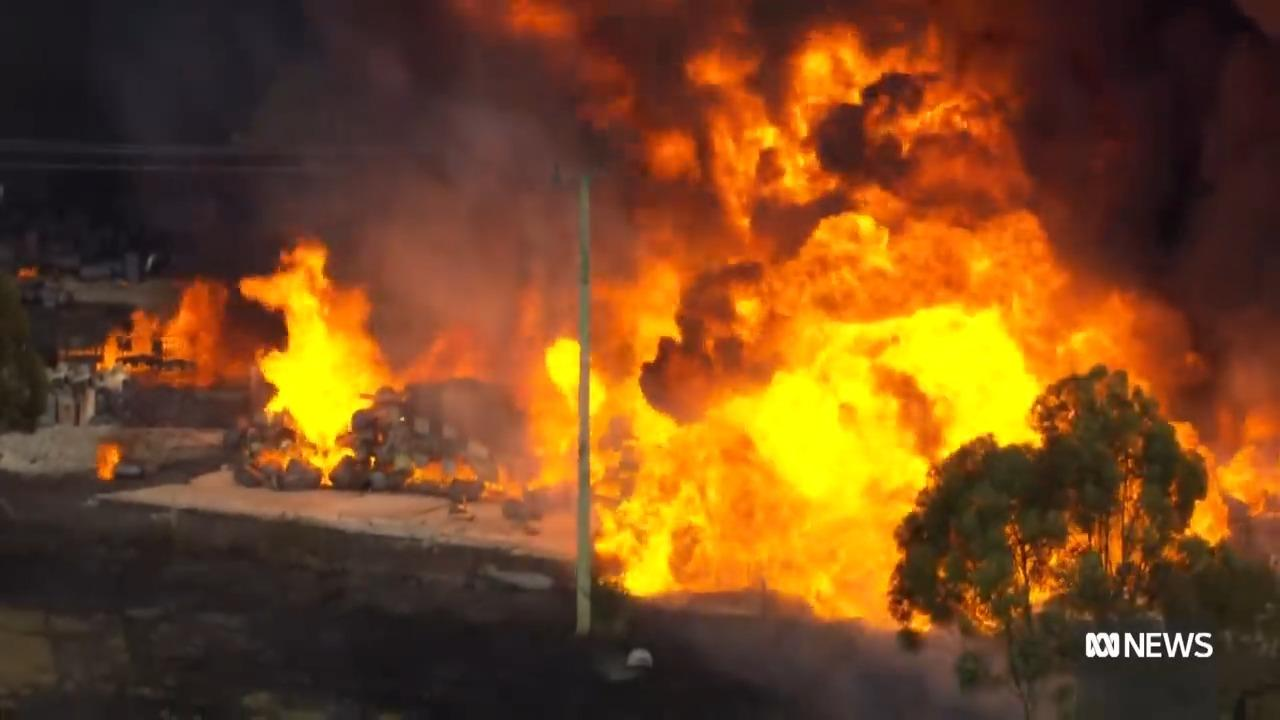fire: (99, 7, 1153, 543)
